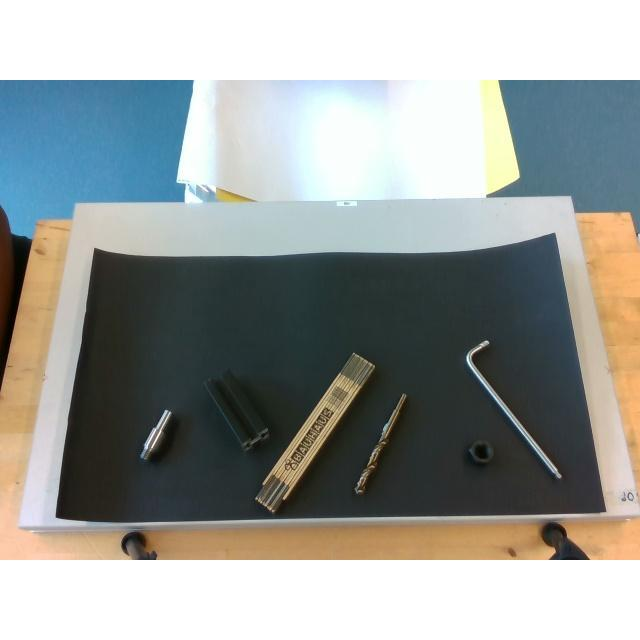AllenKey: (465, 340, 561, 480)
Axis2: (139, 408, 173, 459)
Drill: (354, 393, 406, 495)
M30: (467, 440, 493, 464)
S40_40_B: (204, 371, 268, 451)
